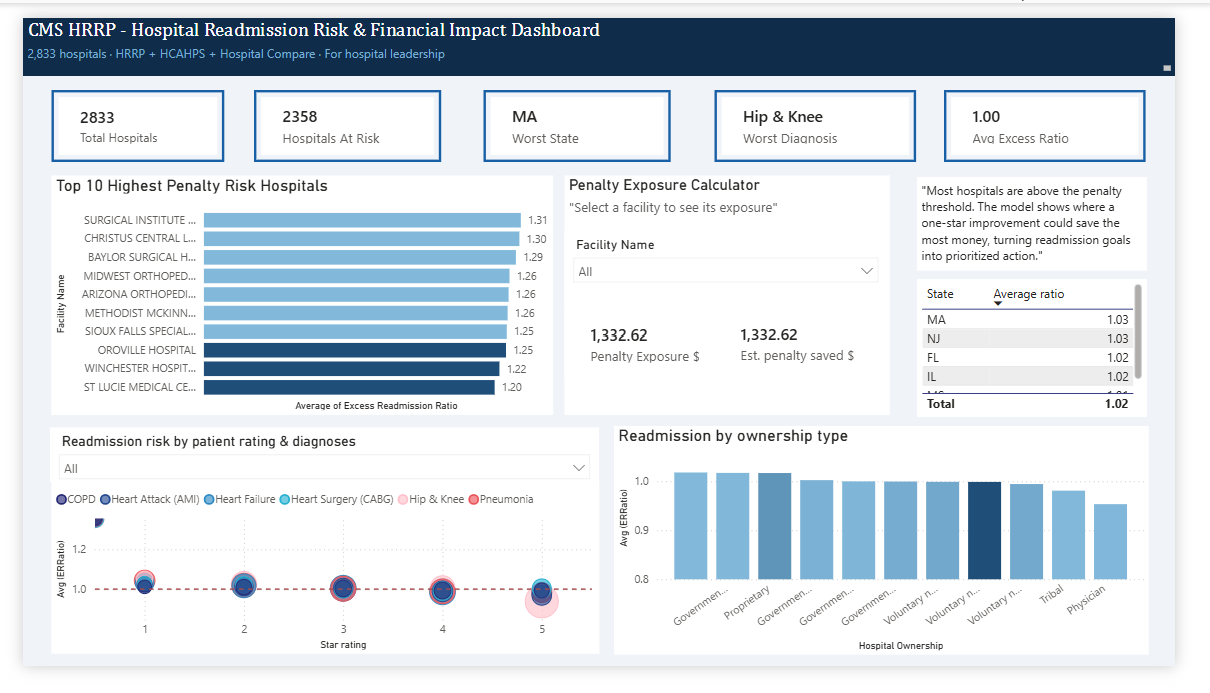

The page's visual inventory and layout, read from the dashboard file:
{"tool":"powerbi","page":{"name":"Page 1","canvas":[1280,720],"ordinal":0},"visuals":[{"type":"textbox","title":"      CMS HRRP - Hospital Readmission Risk & Financial Impact Dashboard","box":[0,0,1280,64],"z":0},{"type":"cardVisual","fields":{"Data":["cms_merged_final.Total Hospitals"]},"box":[32,80,192,80],"z":1000},{"type":"cardVisual","fields":{"Data":["cms_merged_final.Hospitals At Risk"]},"box":[256,80,208,80],"z":2000},{"type":"cardVisual","fields":{"Data":["cms_merged_final.Worst State"]},"box":[512,80,208,80],"z":3000},{"type":"cardVisual","fields":{"Data":["cms_merged_final.Worst Diagnosis"]},"box":[768,80,224,80],"z":4000},{"type":"cardVisual","fields":{"Data":["Avg(cms_merged_final.Excess Readmission Ratio)"]},"box":[1024,80,224,80],"z":5000},{"type":"clusteredBarChart","title":"Top 10 Highest Penalty Risk Hospitals","fields":{"Category":["cms_merged_final.Facility Name"],"Y":["Avg(cms_merged_final.Excess Readmission Ratio)"]},"box":[31.4,175.7,557.1,265.7],"z":6000},{"type":"scatterChart","title":"Discharge info star rating vs excess readmission ratio","fields":{"Series":["cms_merged_final.Diagnosis"],"Size":["Avg(cms_merged_final.Number of Discharges)"],"X":["cms_merged_final.Discharge_Info"],"Y":["Avg(cms_merged_final.Excess Readmission Ratio)"]},"box":[31.4,515.7,608.6,191.4],"z":7000},{"type":"slicer","fields":{"Values":["cms_merged_final.Diagnosis"]},"box":[30,454.3,610,61.4],"z":8000},{"type":"clusteredColumnChart","title":"Readmission by ownership type","fields":{"Category":["cms_merged_final.Hospital_Ownership"],"Y":["Avg(cms_merged_final.Excess Readmission Ratio)"]},"box":[656,454,594,254],"z":9000},{"type":"textbox","title":"Penalty Exposure Calculator","box":[601.4,175.7,361.4,265.7],"z":10000},{"type":"cardVisual","fields":{"Data":["Medicare Revenue.Penalty Exposure $"]},"box":[601.4,325.7,180,75.7],"z":11000},{"type":"cardVisual","fields":{"Data":["Medicare Revenue.Cost Saved Per Star"]},"box":[768.6,321.4,191.4,80],"z":12000},{"type":"slicer","fields":{"Values":["cms_merged_final.Facility Name"]},"box":[601.4,238.6,358.6,82.9],"z":13000},{"type":"tableEx","fields":{"Values":["cms_merged_final.State","Medicare Revenue.Avg Excess Ratio (min 5 hospitals)"]},"box":[992.5,290,255,152.5],"z":14000},{"type":"textbox","box":[992.5,176.2,255,103.8],"z":15001}]}

Visuals, with their boxes in screenshot pixels (x1, y1, x2, y2), scaled from the page's 1280x720 canvas onto the 1210x693 screenshot:
"      CMS HRRP - Hospital Readmission Risk & Financial Impact Dashboard" textbox: (0,0,1209,62)
cardVisual - cms_merged_final.Total Hospitals: (30,77,212,154)
cardVisual - cms_merged_final.Hospitals At Risk: (242,77,439,154)
cardVisual - cms_merged_final.Worst State: (484,77,681,154)
cardVisual - cms_merged_final.Worst Diagnosis: (726,77,938,154)
cardVisual - Avg(cms_merged_final.Excess Readmission Ratio): (968,77,1180,154)
"Top 10 Highest Penalty Risk Hospitals" clusteredBarChart: (30,169,556,425)
"Discharge info star rating vs excess readmission ratio" scatterChart: (30,496,605,681)
slicer - cms_merged_final.Diagnosis: (28,437,605,496)
"Readmission by ownership type" clusteredColumnChart: (620,437,1182,681)
"Penalty Exposure Calculator" textbox: (569,169,910,425)
cardVisual - Medicare Revenue.Penalty Exposure $: (569,313,739,386)
cardVisual - Medicare Revenue.Cost Saved Per Star: (727,309,908,386)
slicer - cms_merged_final.Facility Name: (569,230,908,309)
tableEx - cms_merged_final.State x Medicare Revenue.Avg Excess Ratio (min 5 hospitals): (938,279,1179,426)
textbox: (938,170,1179,270)
